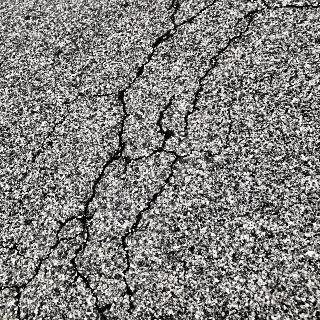crack: (20, 2, 228, 314)
